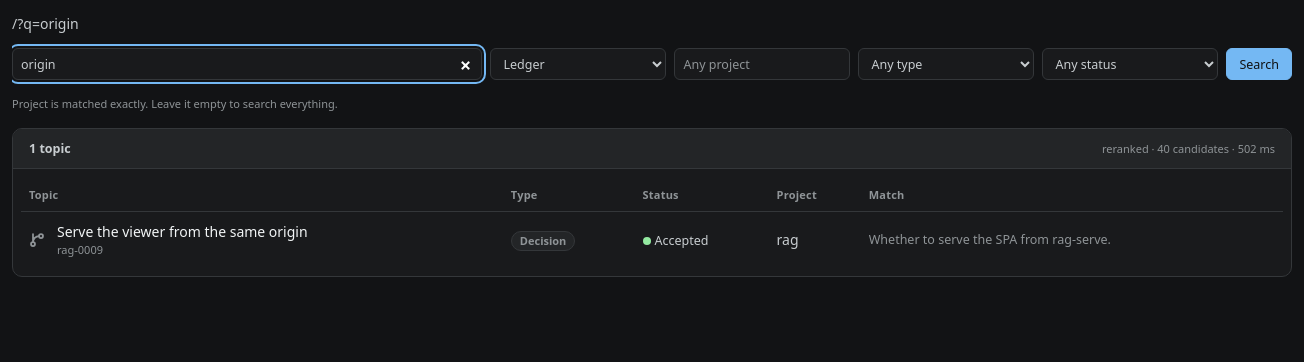
Scenario: SearchView › renders a hit as a row and opens the topic on a click
This screenshot has width=1304, height=362.
Expected: the text "rag-0009" is shown, [57,242,103,258]
Expected: the text "Accepted" is shown, [654,232,708,250]
What coordinates should you click on to do the following:
click the text "Serve the viewer from the same origin"
I would click on:
 (182, 232)
Its box is [57,222,308,241].
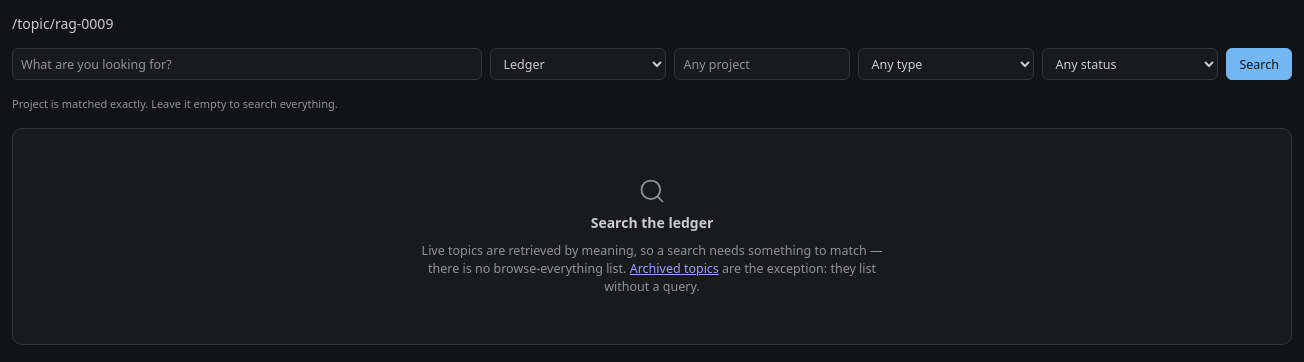
Now the text with test id "address" reads "/topic/rag-0009", box [12,14,113,33]
